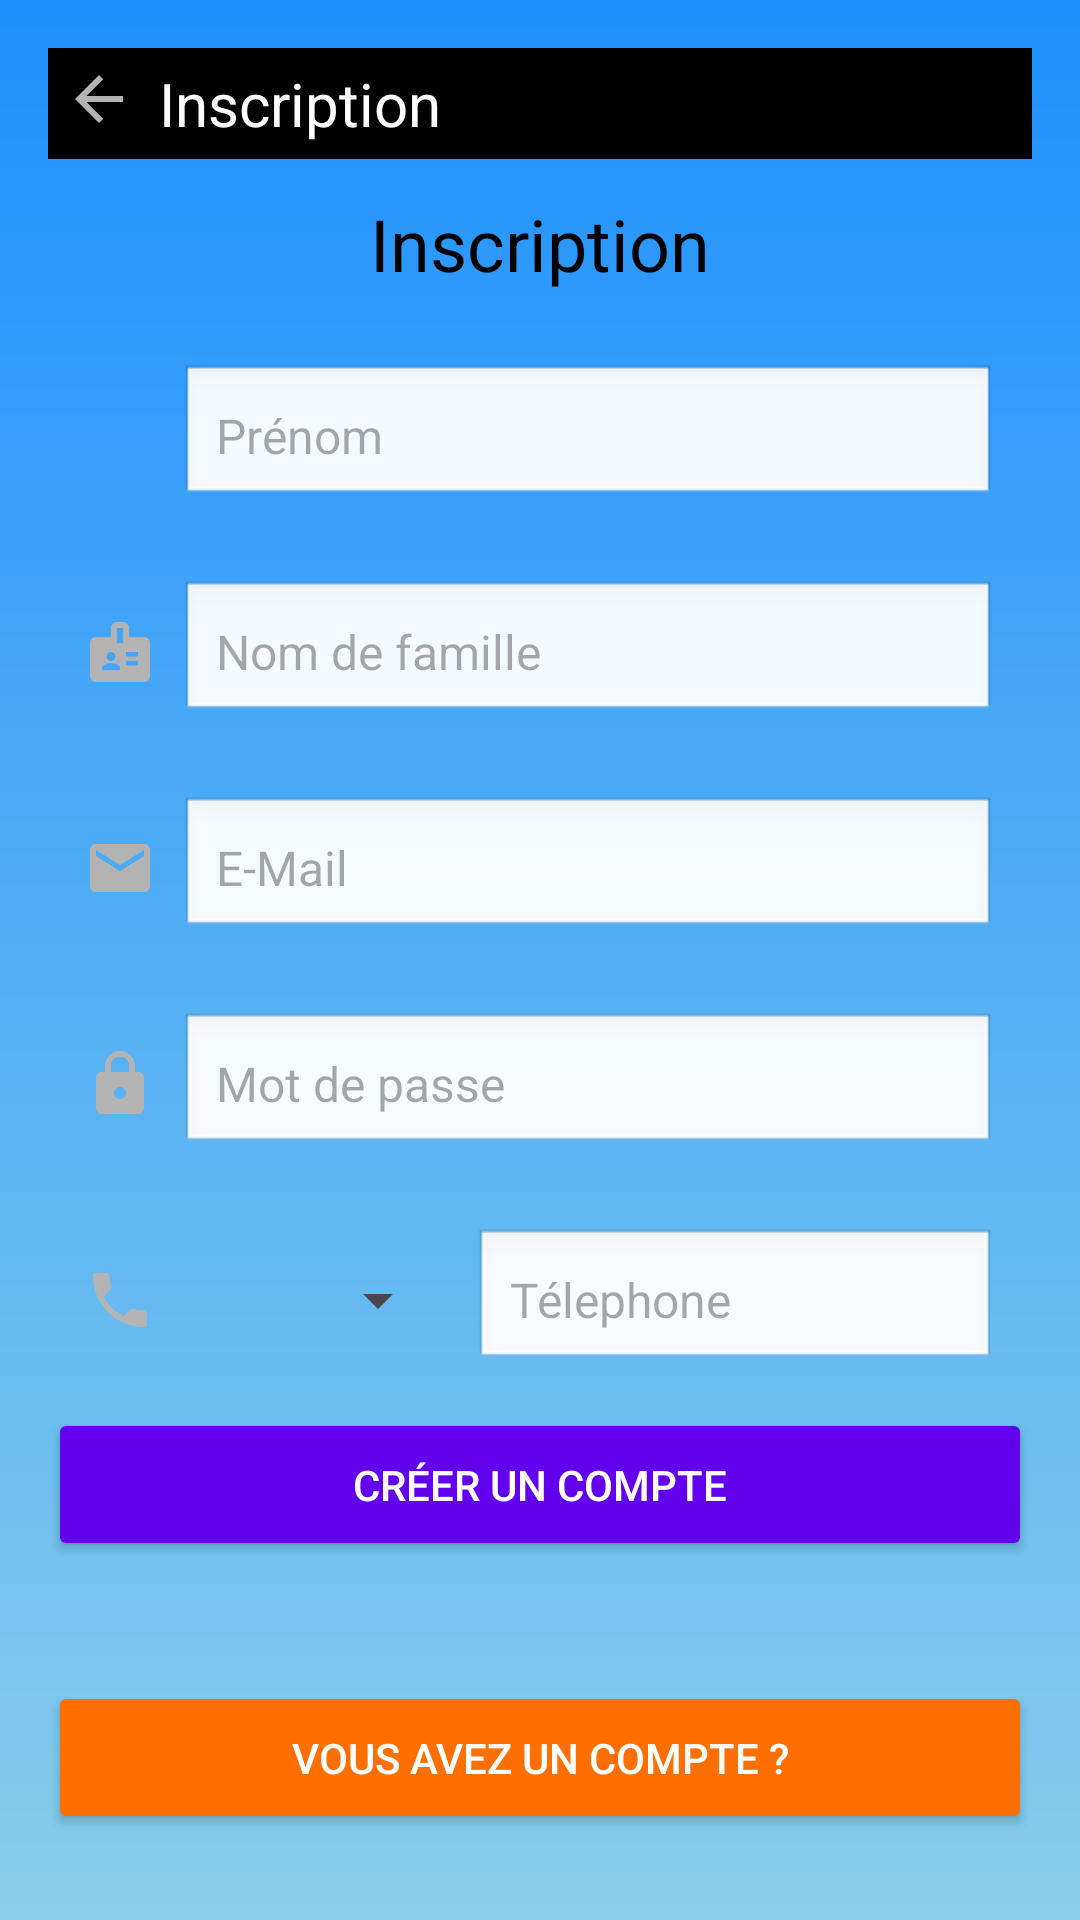

Named icons in this screenshot (1080 x 1920) and their centers, (x,y):
Icône LastName: (120,652)
Icône Password: (120,1082)
Icône Téléphone: (120,1300)
Retour: (99,99)
